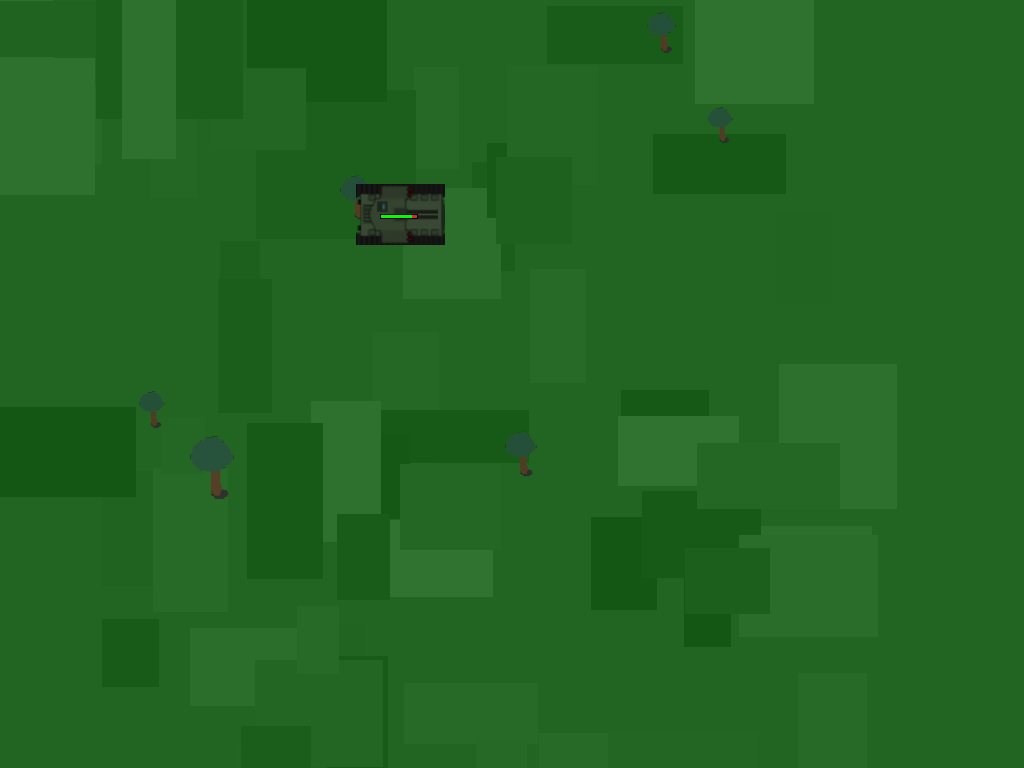TerminatorIFV: (365, 179, 433, 247)
